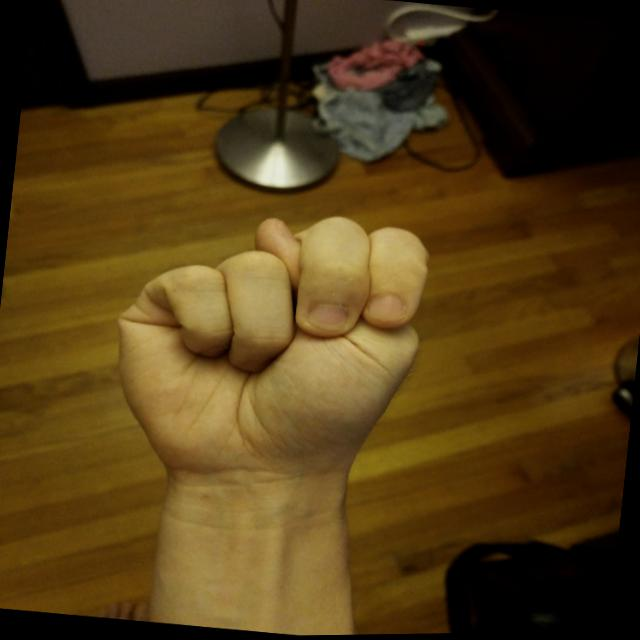N: (92, 188, 442, 508)
